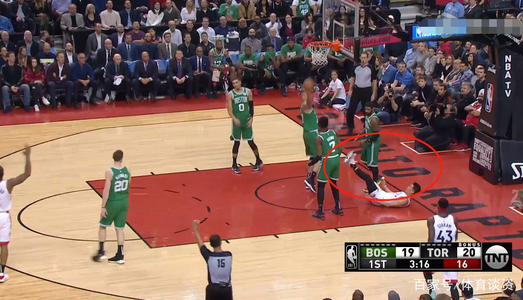10+: (3, 1, 515, 298)
down: (340, 147, 435, 214)
